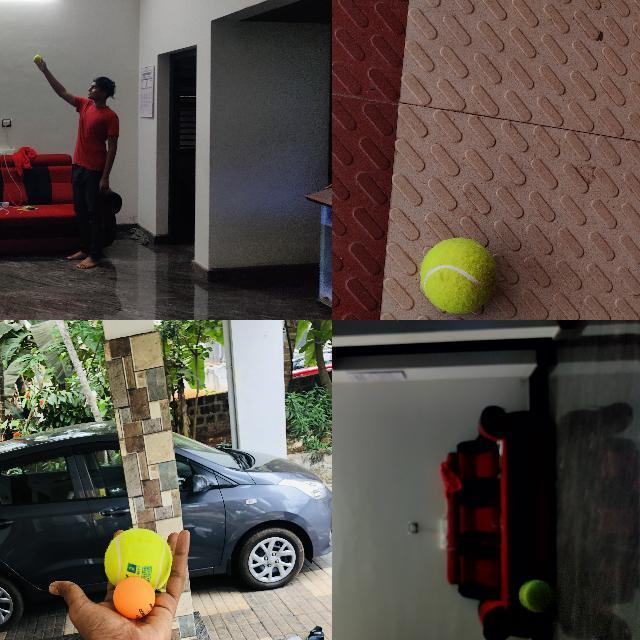tennis-ball: (420, 237, 497, 313), (104, 529, 172, 576), (519, 580, 554, 613), (33, 54, 41, 62)
